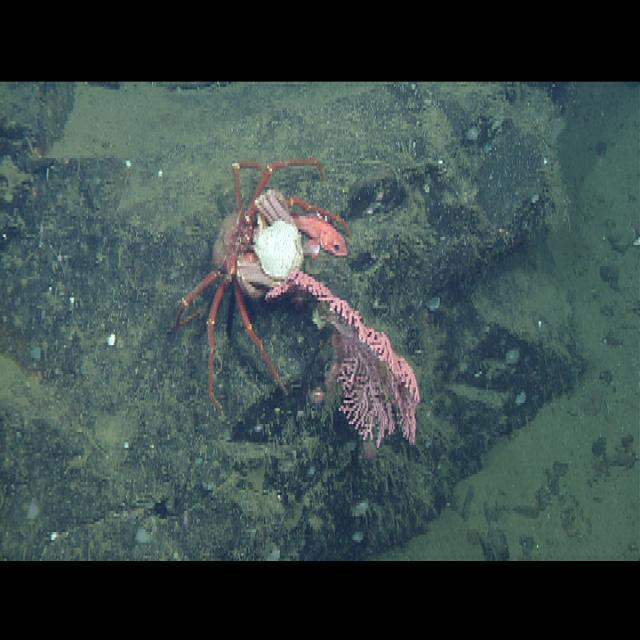Brittle Star: (23, 208, 57, 253), (46, 237, 76, 279)
Not Brittle Star: (169, 146, 328, 416), (266, 265, 428, 461), (282, 203, 350, 266), (502, 344, 524, 368)
